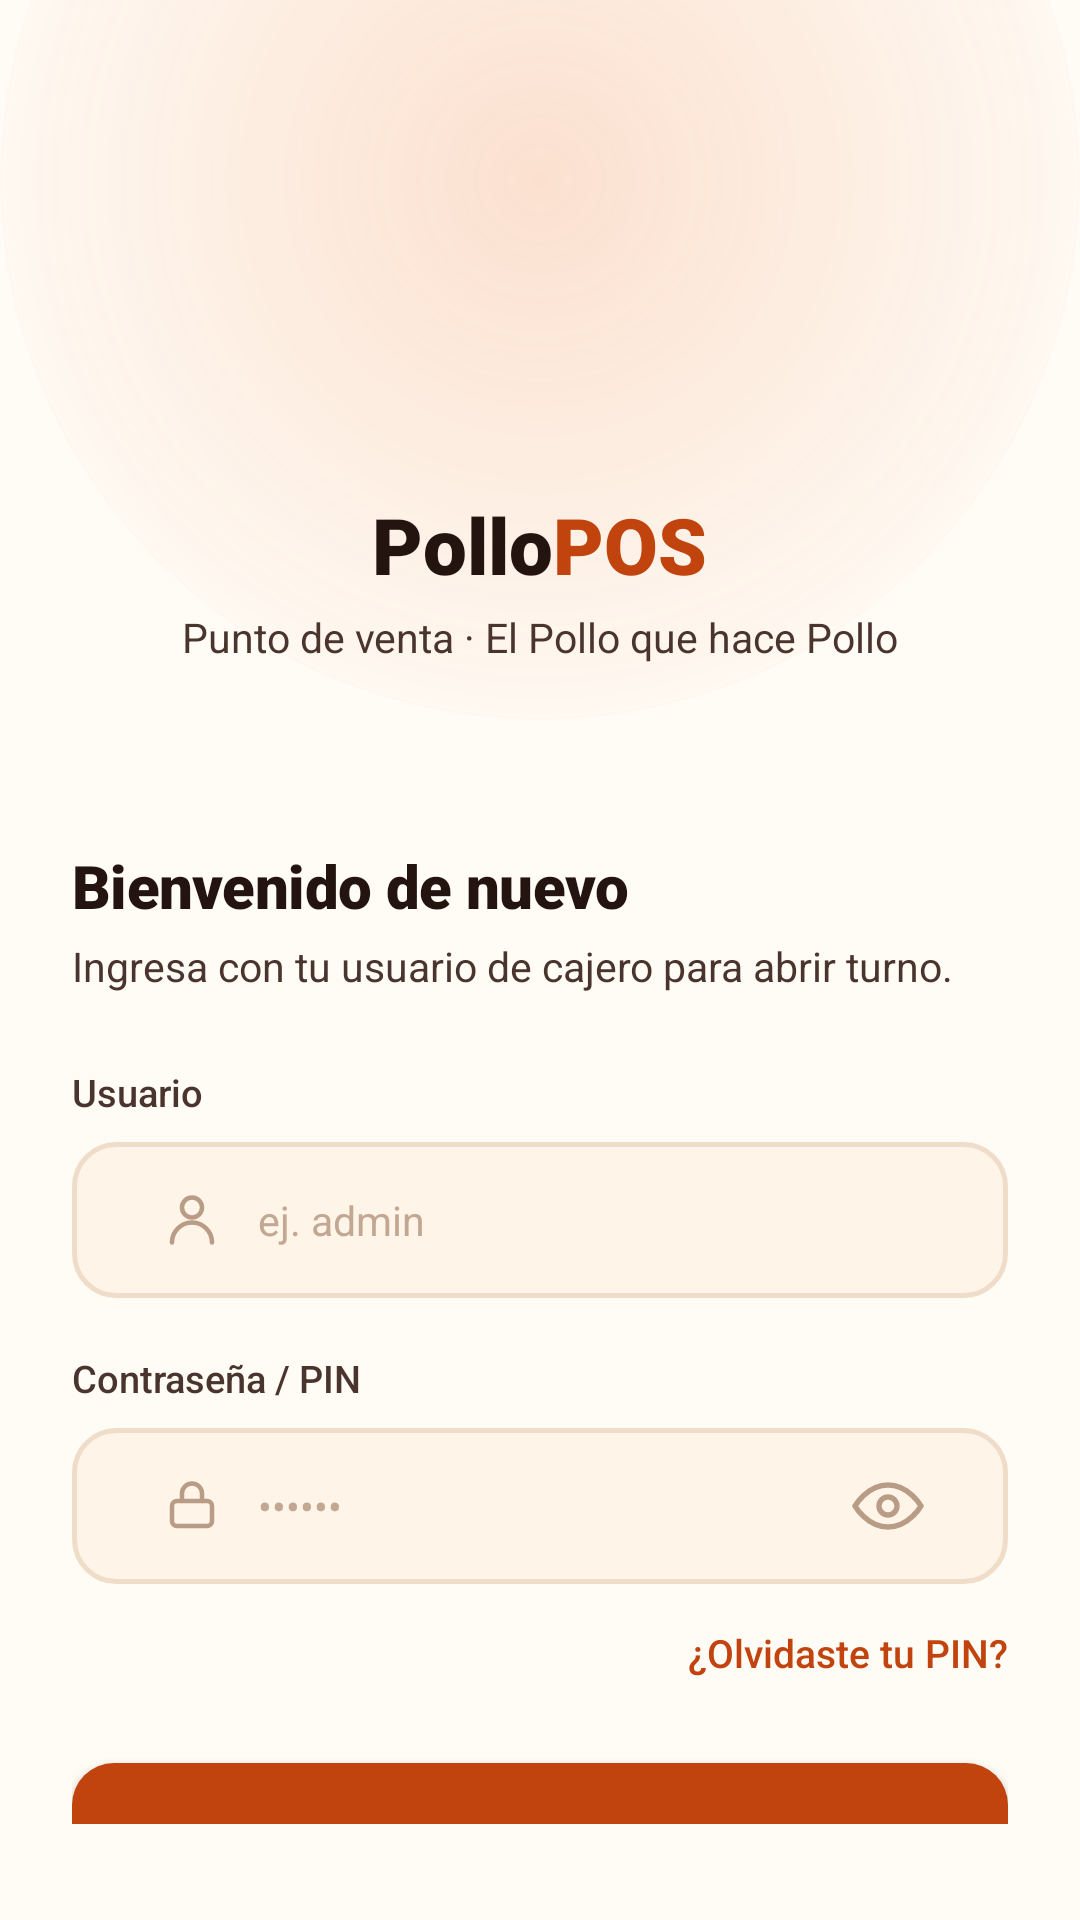

Icons on this 1080 × 1920 Android screen, each with its box as (left=x1, top=y1, right=x2, bottom=y2):
eye: (left=852, top=1482, right=924, bottom=1530)
lock: (left=170, top=1481, right=214, bottom=1528)
